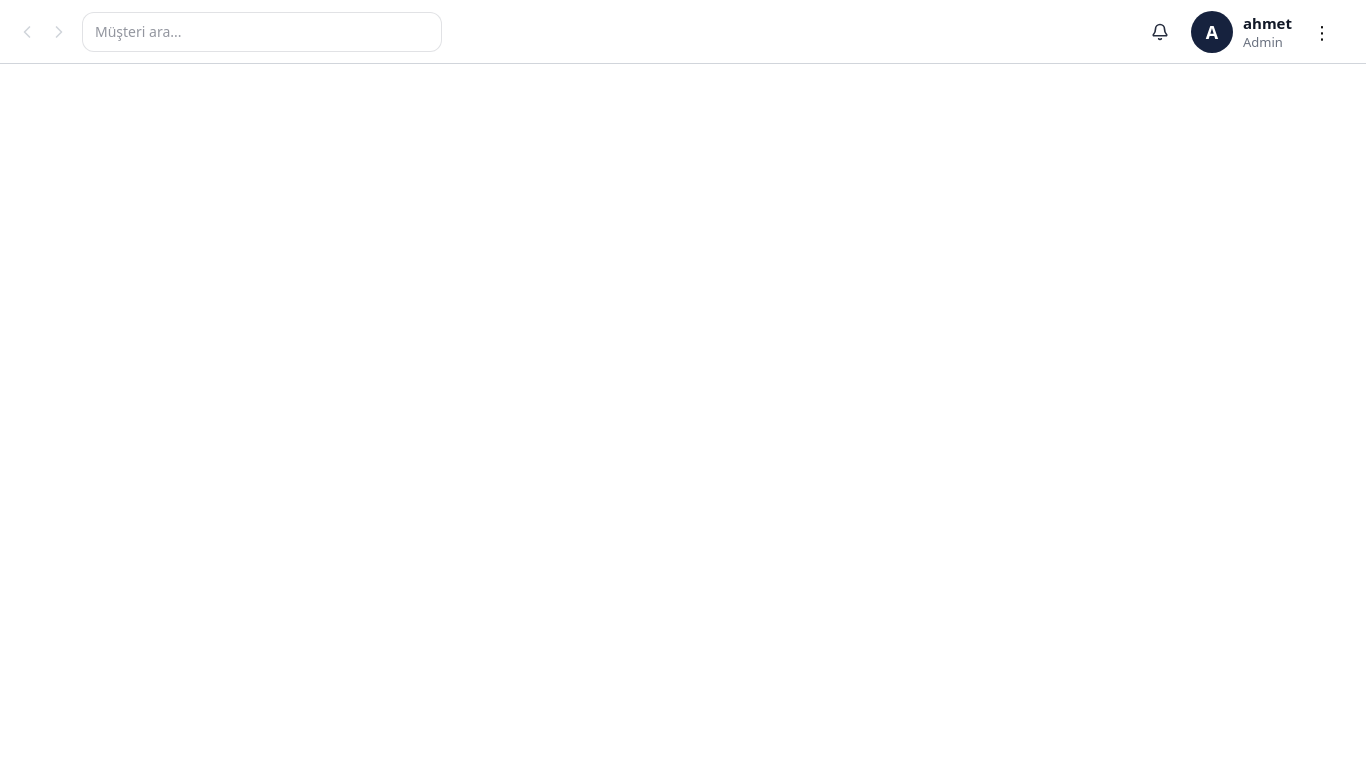
Header › notification menu › shows empty state when there are no notifications
What coordinates should you click on to do the following:
click the button named "Bildirimler"
I would click on:
 (1160, 32)
Its box is [1139, 10, 1181, 52].
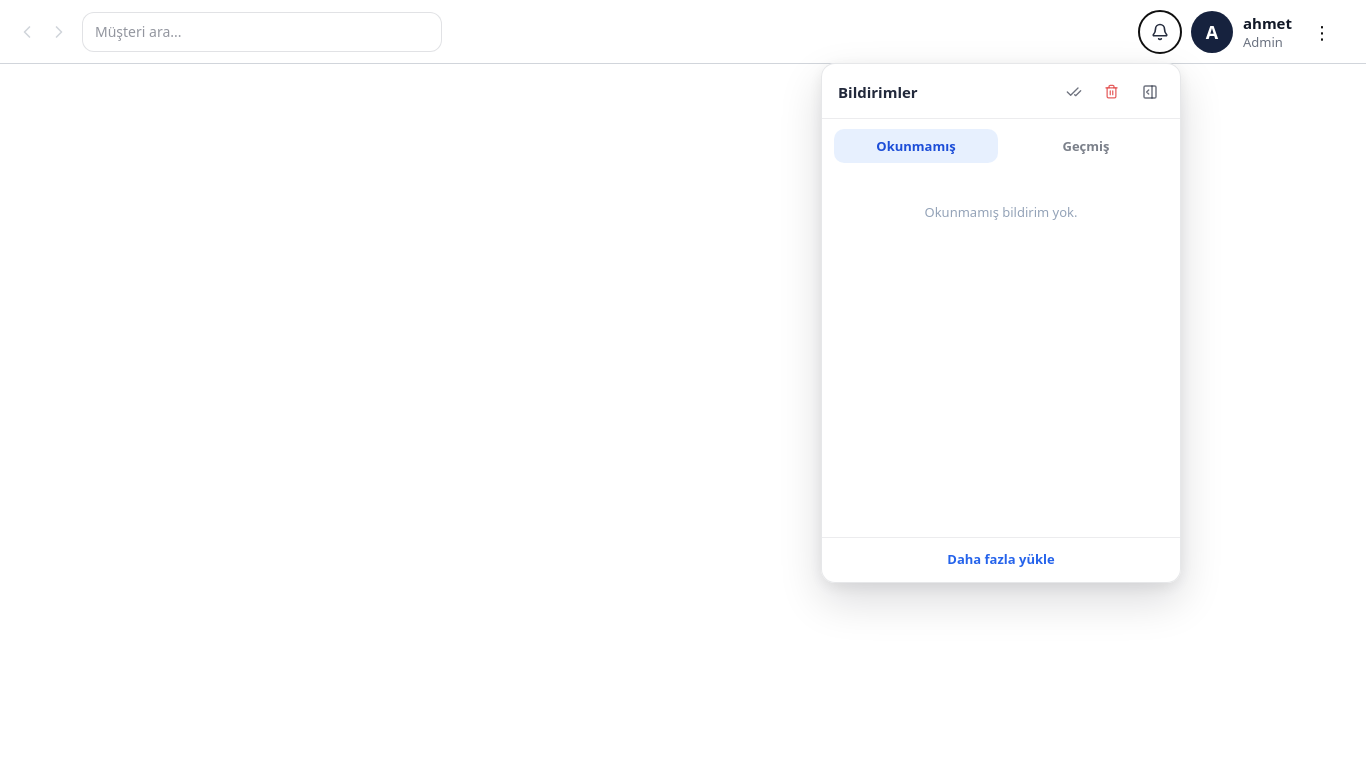
Expected: the text "Okunmamış bildirim yok." is shown, [924, 202, 1078, 220]
